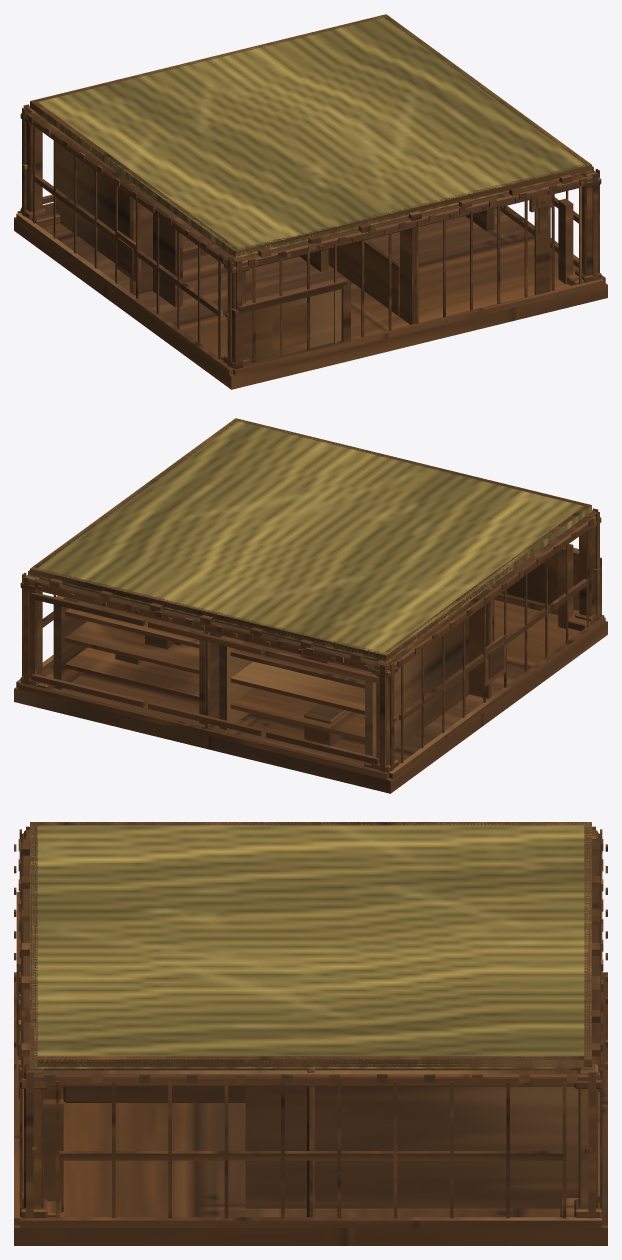
3 views of the same model, one above another, from view 1: azimuth 30°, elevation 25°; view 2: azimuth 150°, elevation 25°; view 3: azimuth 270°, elevation 25° (orthographic). The views are drawn at different scales.
Parts seen in each view (by area): view 1: SM_HDBF_BoxFarm_Basic_LOD0; view 2: SM_HDBF_BoxFarm_Basic_LOD0; view 3: SM_HDBF_BoxFarm_Basic_LOD0.
Boxes of the visible parts, <box> form: SM_HDBF_BoxFarm_Basic_LOD0: <box>14,14,607,389</box>; SM_HDBF_BoxFarm_Basic_LOD0: <box>14,418,607,793</box>; SM_HDBF_BoxFarm_Basic_LOD0: <box>14,822,607,1245</box>.
Size of the model in its own units: 3 by 1 by 3.
Materials: 2 (2 with a texture image).
